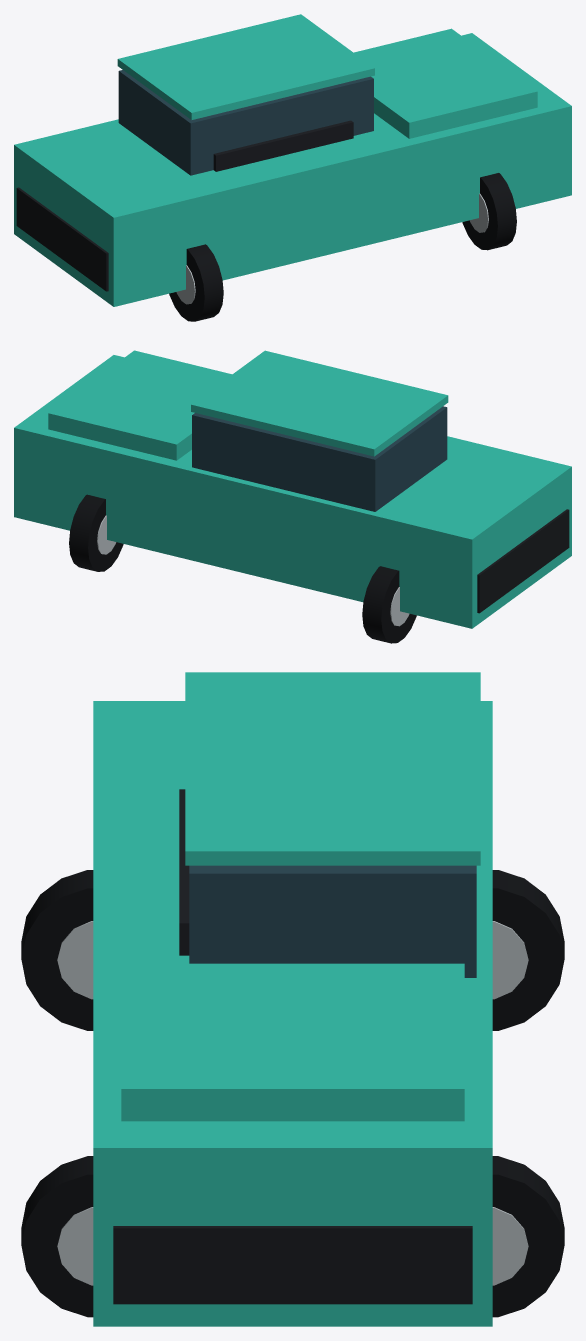
The model's file is ford_e_series_cutaway.glb.
The picture shows the model from 3 angles, top to bottom: view 1: azimuth 30°, elevation 25°; view 2: azimuth 150°, elevation 25°; view 3: azimuth 270°, elevation 25°; orthographic projection. The views are drawn at different scales.
Visible parts, largest first — view 1: body, roof, hood, cabin, rear_bumper, rear_right_wheel, front_right_wheel, interior; view 2: body, roof, cabin, hood, rear_bumper, rear_left_wheel, front_left_wheel; view 3: body, roof, hood, cabin, front_bumper, front_left_wheel, front_right_wheel, rear_left_wheel, rear_right_wheel, interior.
Boxes of the visible parts, x1,y1,x2,y2 form: body: (14,33,571,306); roof: (117,14,374,119); hood: (354,28,537,138); cabin: (118,70,373,175); rear_bumper: (16,187,108,291); rear_right_wheel: (169,244,223,321); front_right_wheel: (462,173,516,250); interior: (213,120,353,171); body: (14,355,571,628); roof: (191,350,448,456); cabin: (192,406,447,511); hood: (48,350,231,460); rear_bumper: (477,509,569,613); rear_left_wheel: (362,566,416,643); front_left_wheel: (69,494,123,571); body: (93,701,492,1326); roof: (185,672,480,865); hood: (121,963,464,1121); cabin: (189,865,476,977); front_bumper: (113,1226,472,1304); front_left_wheel: (492,1156,564,1317); front_right_wheel: (21,1156,93,1317); rear_left_wheel: (492,870,564,1030); rear_right_wheel: (21,870,93,1030); interior: (179,789,189,955).
Size of the model in its own units: 5.35 by 2.03 by 2.72.
